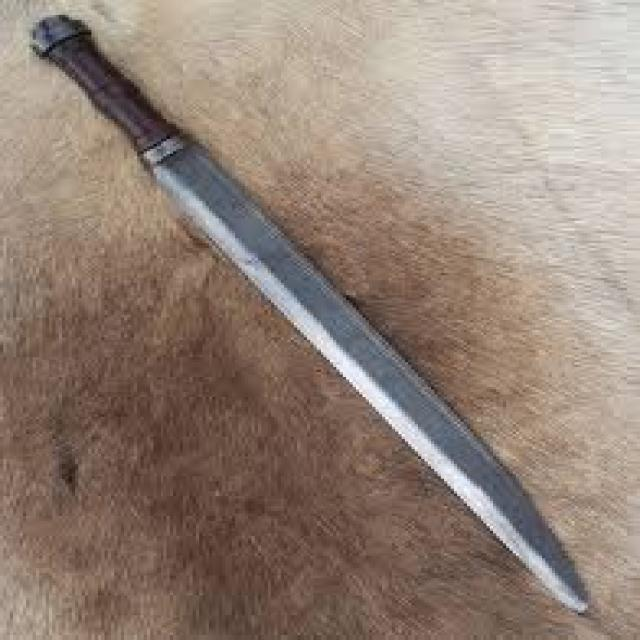knives: (23, 8, 601, 620)
